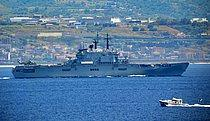MIL_Ship: (11, 32, 190, 78)
